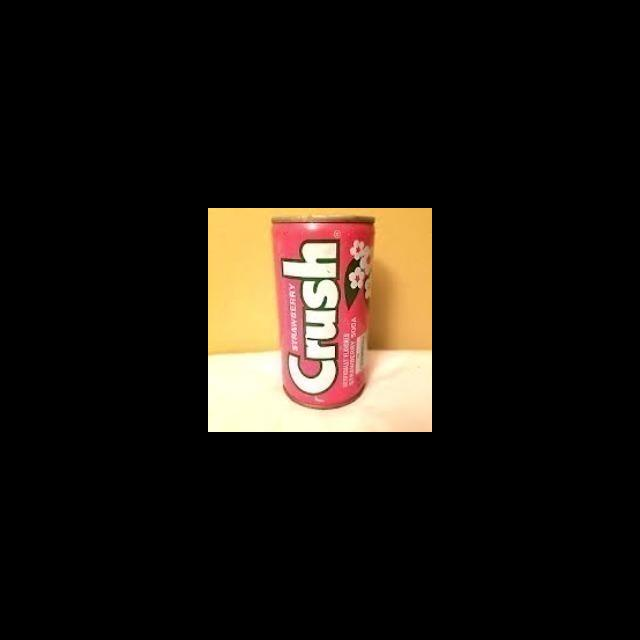metal: (262, 208, 373, 409)
